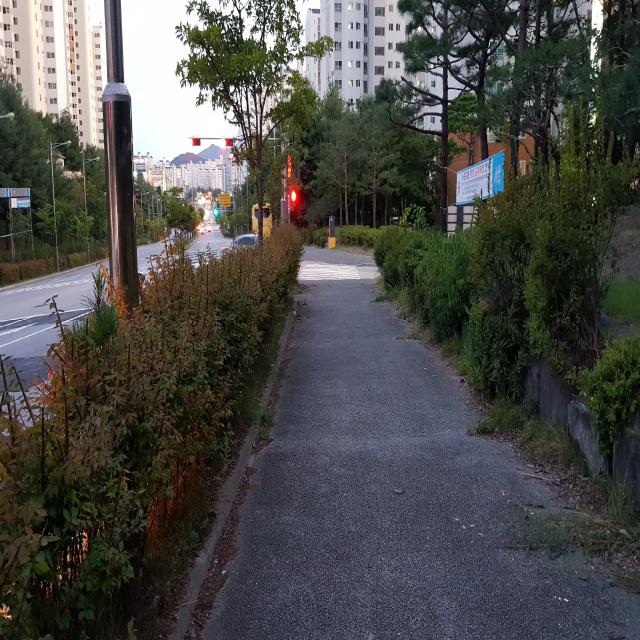횡단보도: (298, 264, 361, 280)
